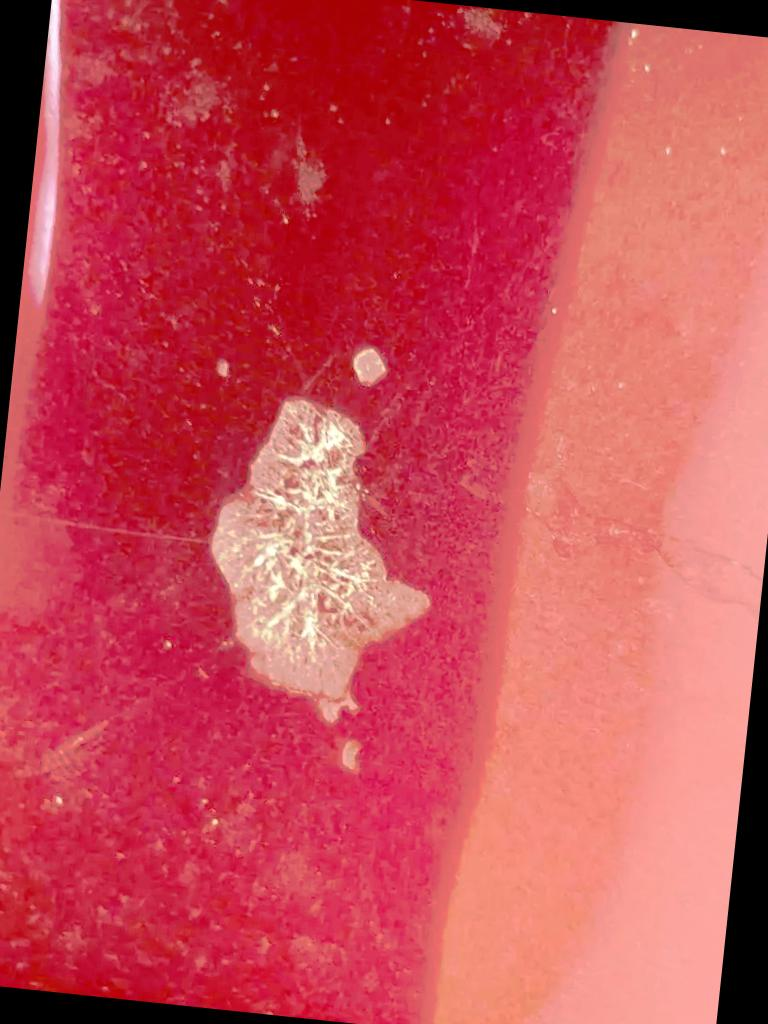Bird Poop: (211, 399, 428, 721), (353, 347, 386, 386), (341, 740, 358, 770)
